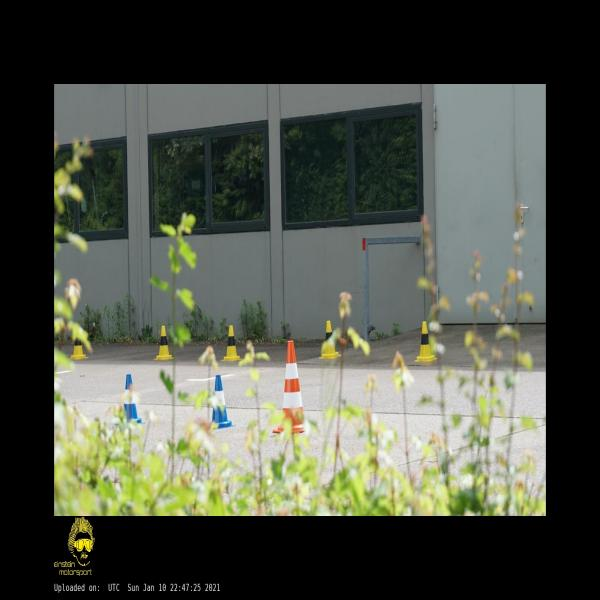blue_cone: (114, 374, 145, 425), (209, 374, 236, 429)
large_orange_cone: (271, 341, 306, 433)
yellow_cone: (414, 322, 438, 362), (318, 320, 342, 358), (221, 326, 243, 360), (153, 326, 175, 359), (70, 337, 88, 360)
